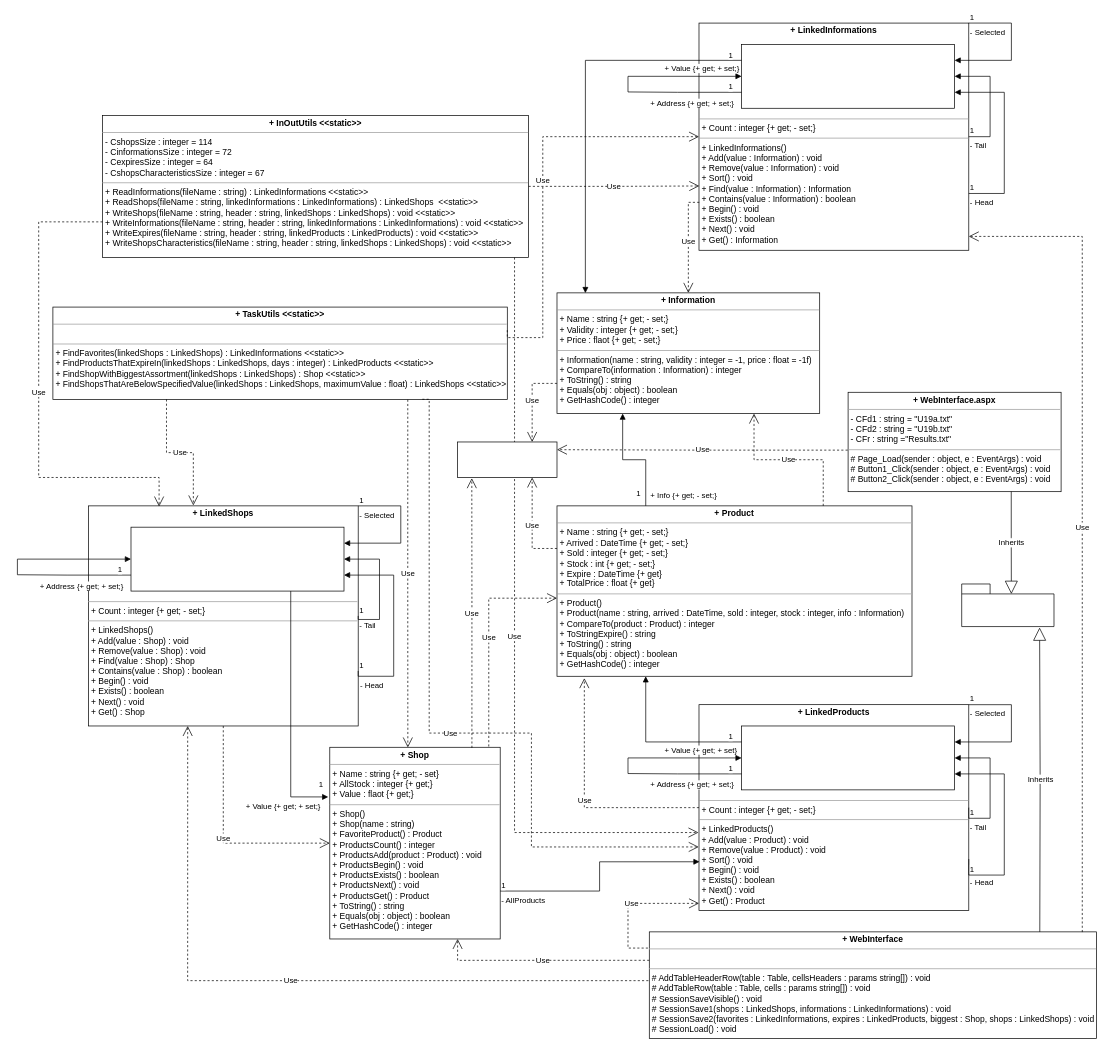
Some shapes in this 1109 by 1051 pixel diagram are drawn without their labels. Each missing label, with the centre of its shape:
- Node + Node(value : Information = null, adress : Node = null): [848,76]
- Node + Node(value : Product = null, adress : Node = null): [848,757]
- Node + Node(value : Shop = null, adress : Node = null): [237,558]
System.Object: [507,459]
System.Web.UI.Page: [1007,605]
